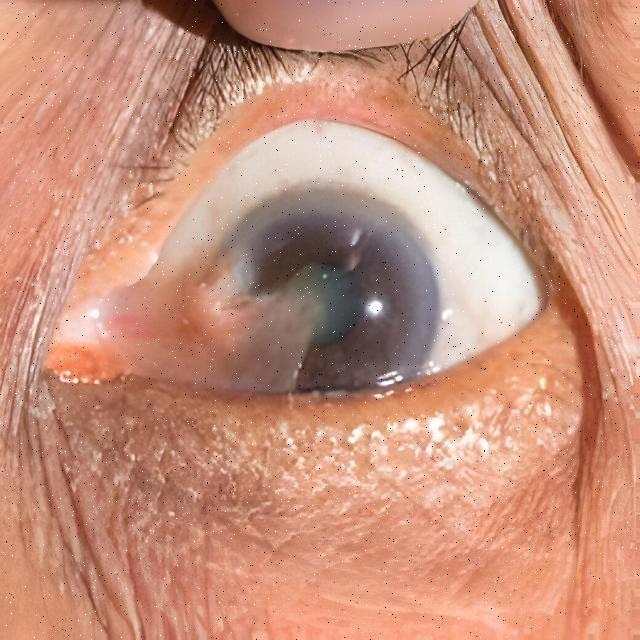Pterygium: (64, 226, 354, 411)
